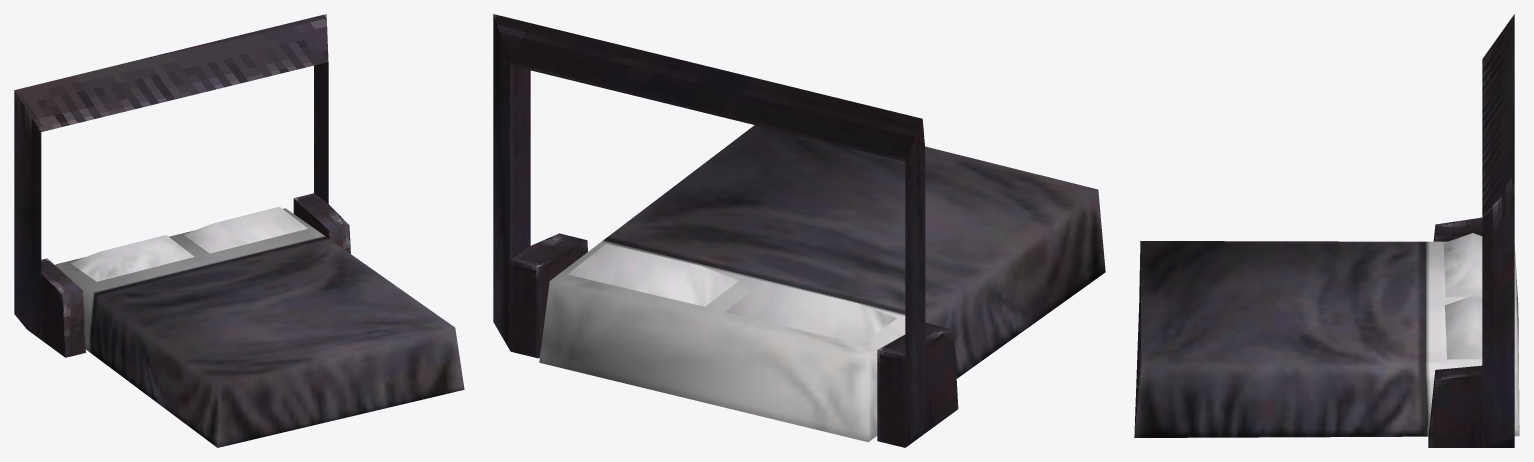
File: frn_all_bed_lg_s1_l2.fbx
3 views of the same model, side by side, from view 1: azimuth 30°, elevation 25°; view 2: azimuth 150°, elevation 25°; view 3: azimuth 270°, elevation 25° (orthographic). The views are drawn at different scales.
Parts seen in each view (by area): view 1: mesh_node; view 2: mesh_node; view 3: mesh_node.
Part boxes in pixels (x1,y1,x2,y2): mesh_node: (14,14,464,447); mesh_node: (493,14,1105,447); mesh_node: (1134,14,1519,447).
Size of the model in its own units: 2.07 by 1.54 by 1.98.
